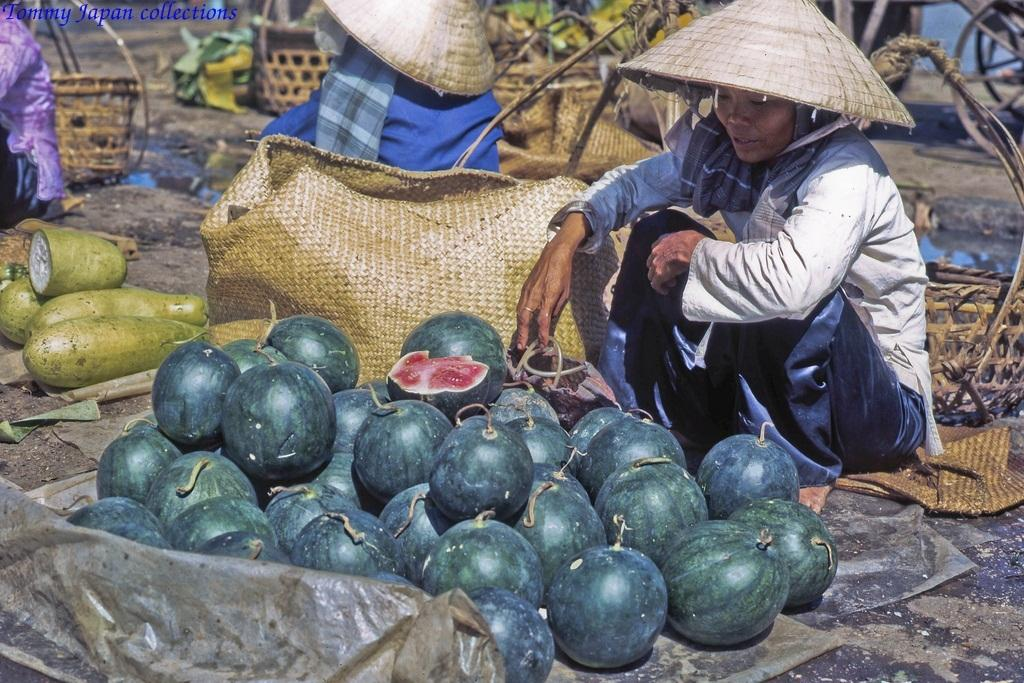Hat: (616, 0, 914, 129), (320, 0, 502, 99)
